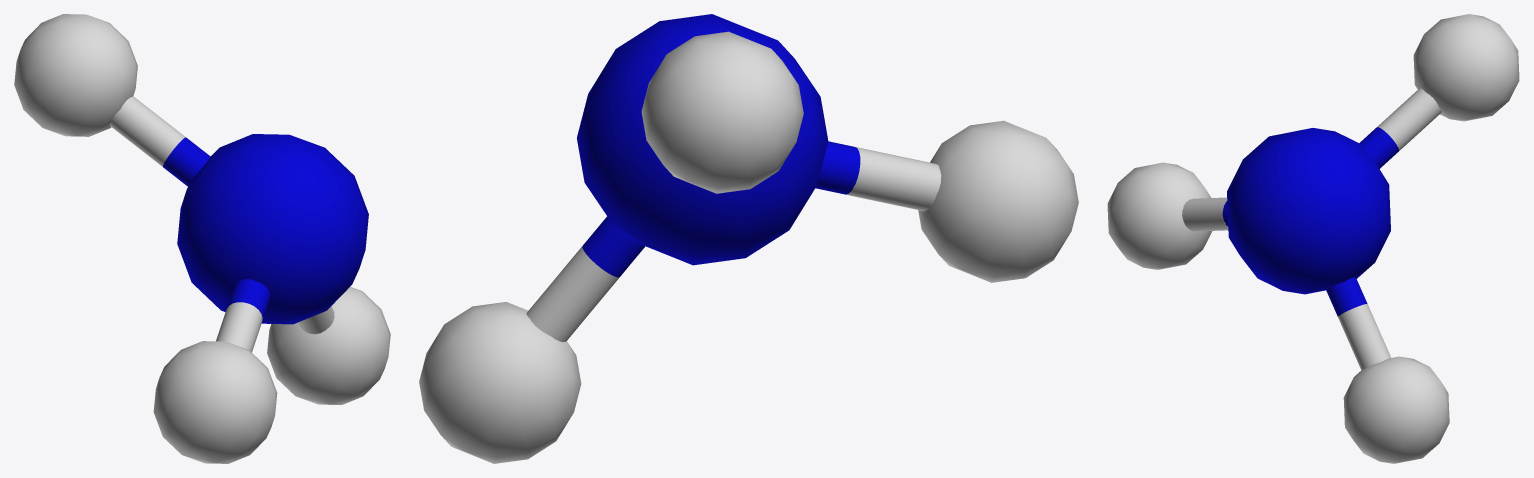
3 views of the same model, side by side, from view 1: azimuth 30°, elevation 25°; view 2: azimuth 150°, elevation 25°; view 3: azimuth 270°, elevation 25° (orthographic). The views are drawn at different scales.
Parts seen in each view (by area): view 1: vmd_mol1_rep0; view 2: vmd_mol1_rep0; view 3: vmd_mol1_rep0.
Part boxes in pixels (left/top/right/bottom): vmd_mol1_rep0: left=14, top=14, right=390, bottom=463; vmd_mol1_rep0: left=419, top=14, right=1078, bottom=463; vmd_mol1_rep0: left=1107, top=14, right=1519, bottom=463.
Bounding box in the file's own units: 0.8611 × 0.9321 × 0.9992.
